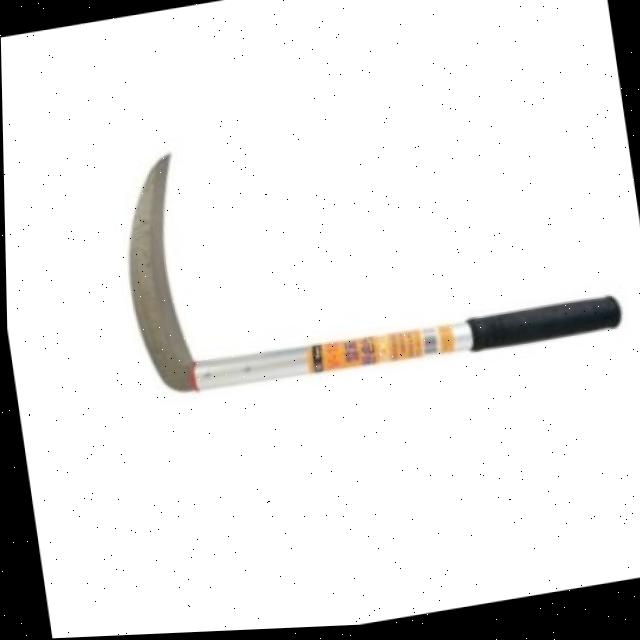sickle: (18, 9, 640, 542)
